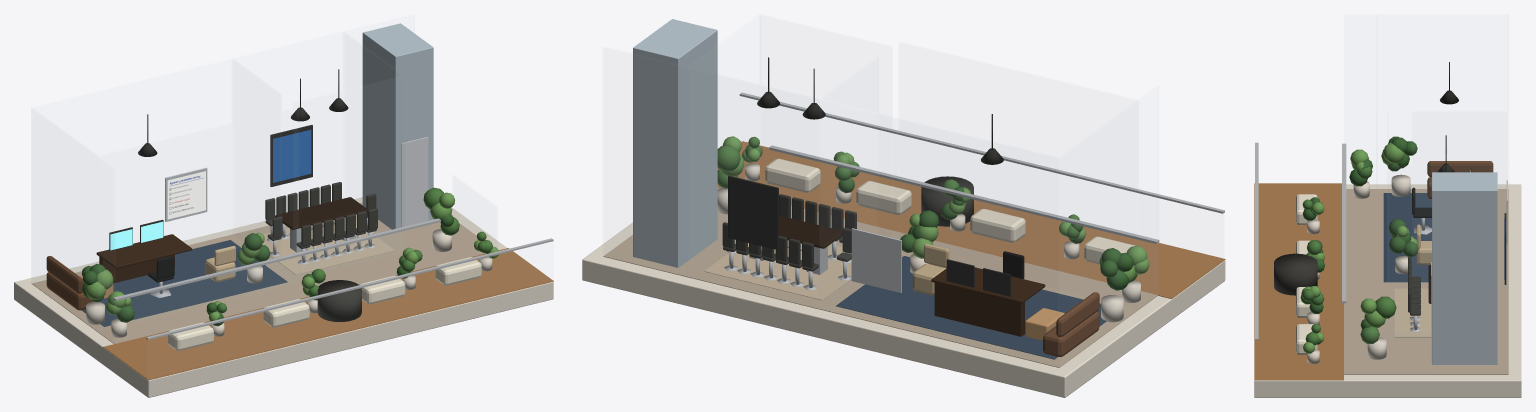
3 renders of one model, left to right at view 1: azimuth 30°, elevation 25°; view 2: azimuth 150°, elevation 25°; view 3: azimuth 270°, elevation 25°, orthographic. The views are drawn at different scales.
Parts seen in each view (by area): view 1: LM_P5, Cube.108, Plane; view 2: LM_P5; view 3: LM_P5.
Boxes of the visible parts, <box> form: LM_P5: <box>14,23,553,397</box>; Cube.108: <box>273,129,311,182</box>; Plane: <box>167,171,205,219</box>; LM_P5: <box>582,19,1225,397</box>; LM_P5: <box>1254,62,1521,397</box>.
Size of the model in its own units: 10.6 by 4.85 by 6.1.
Materials: 30 (1 with a texture image).
